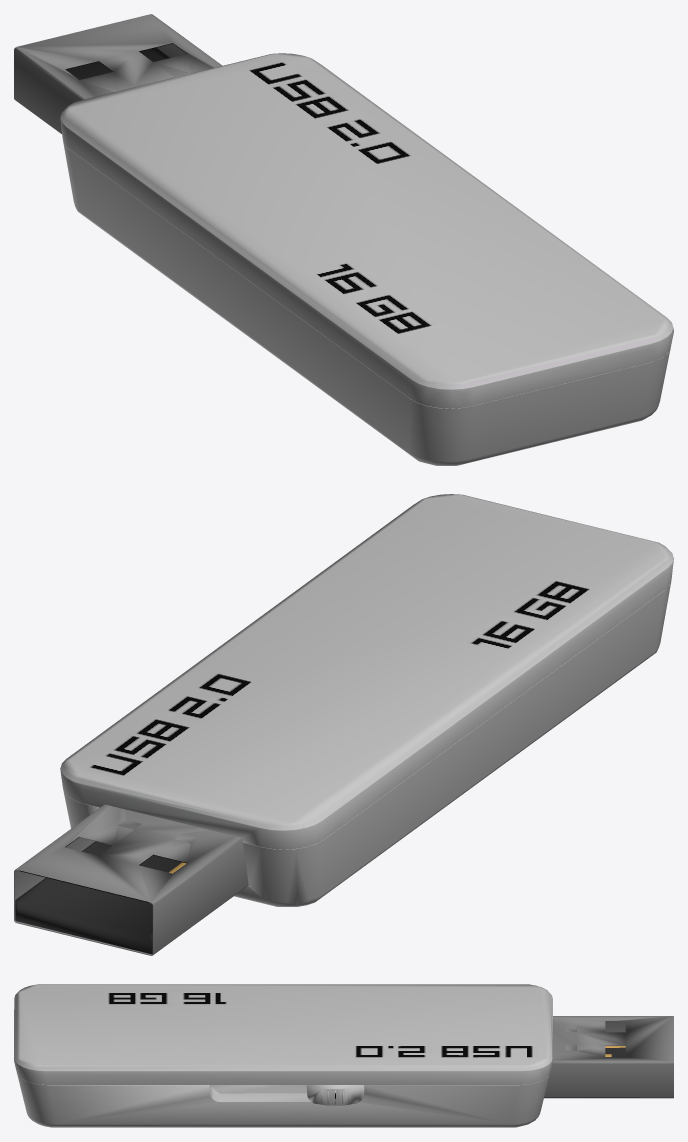
Rendered from usb_memory.glb.
3 renders of one model, top to bottom at view 1: azimuth 30°, elevation 25°; view 2: azimuth 150°, elevation 25°; view 3: azimuth 270°, elevation 25°, orthographic. The views are drawn at different scales.
Visible parts, largest first — view 1: Cube.001_Material.006_0; view 2: Cube.001_Material.006_0; view 3: Cube.001_Material.006_0.
Part boxes in pixels (x1,y1,x2,y2): Cube.001_Material.006_0: [14, 14, 673, 465]; Cube.001_Material.006_0: [14, 494, 673, 955]; Cube.001_Material.006_0: [14, 984, 673, 1127].
Bounding box in the file's own units: 1.12 × 0.3757 × 3.5.
1 material, 1 textured.
